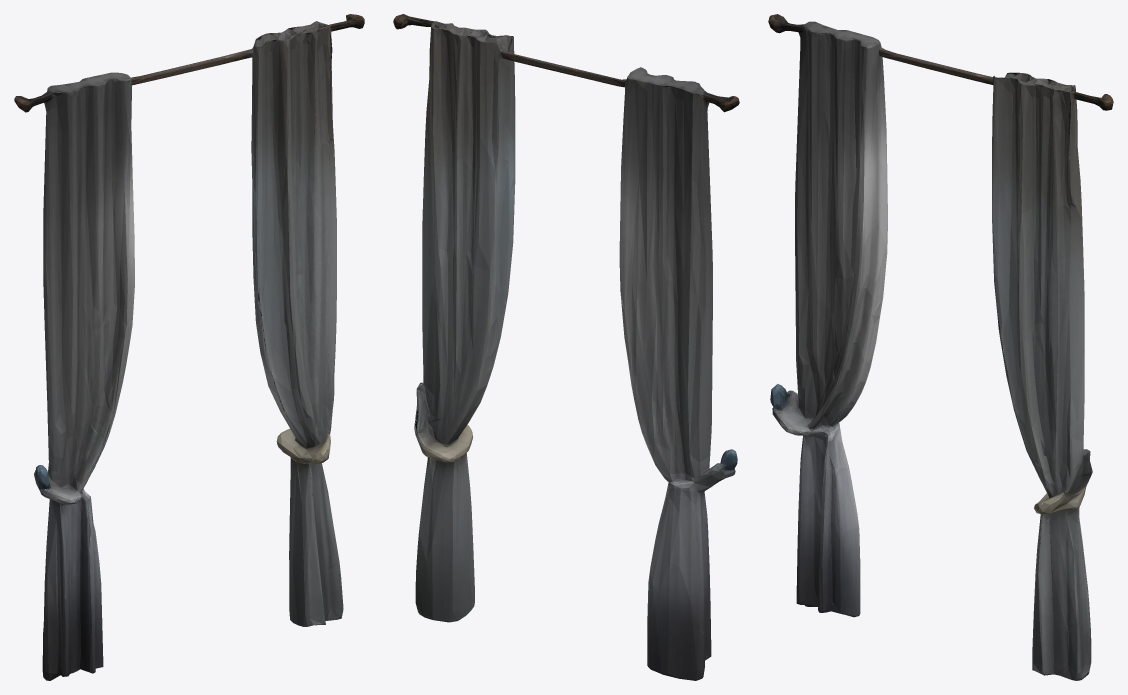
File: curtains-optimized.glb
3 views of the same model, side by side, from view 1: azimuth 30°, elevation 25°; view 2: azimuth 150°, elevation 25°; view 3: azimuth 330°, elevation 25° (orthographic).
Parts seen in each view (by area): view 1: geometry_0; view 2: geometry_0; view 3: geometry_0.
Part boxes in pixels (bbox=[...]): geometry_0: bbox=[14, 14, 364, 680]; geometry_0: bbox=[393, 14, 739, 680]; geometry_0: bbox=[768, 14, 1113, 680].
Size of the model in its own units: 0.6146 by 1 by 0.1128.
1 material, 1 textured.
